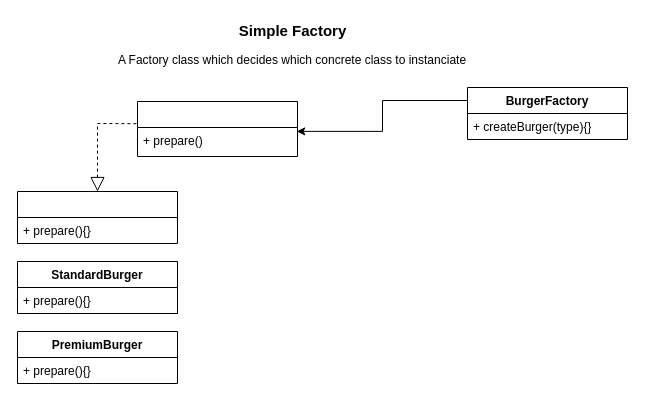
Some shapes in this 645 by 403 pixel diagram are drawn without their labels. Here are the shapes that lost their labels. From the top down, the box of each, then its label:
(136, 100, 298, 156): IBurger
(16, 190, 178, 244): BasicBurger
